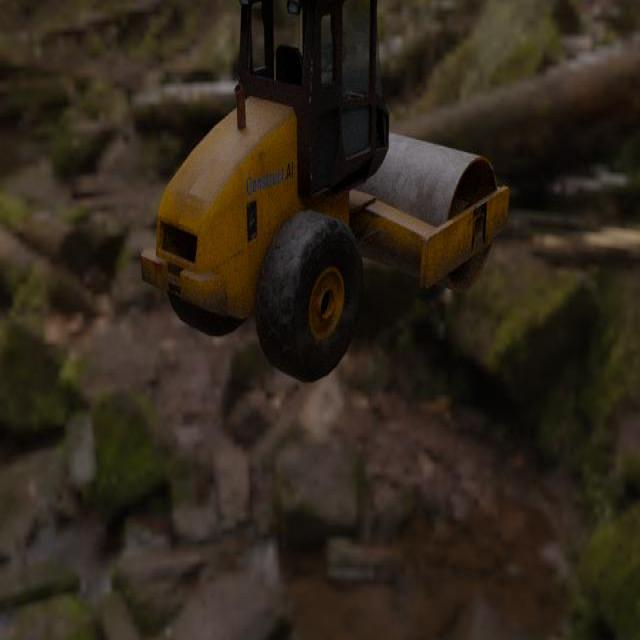Roller: (140, 0, 509, 384)
